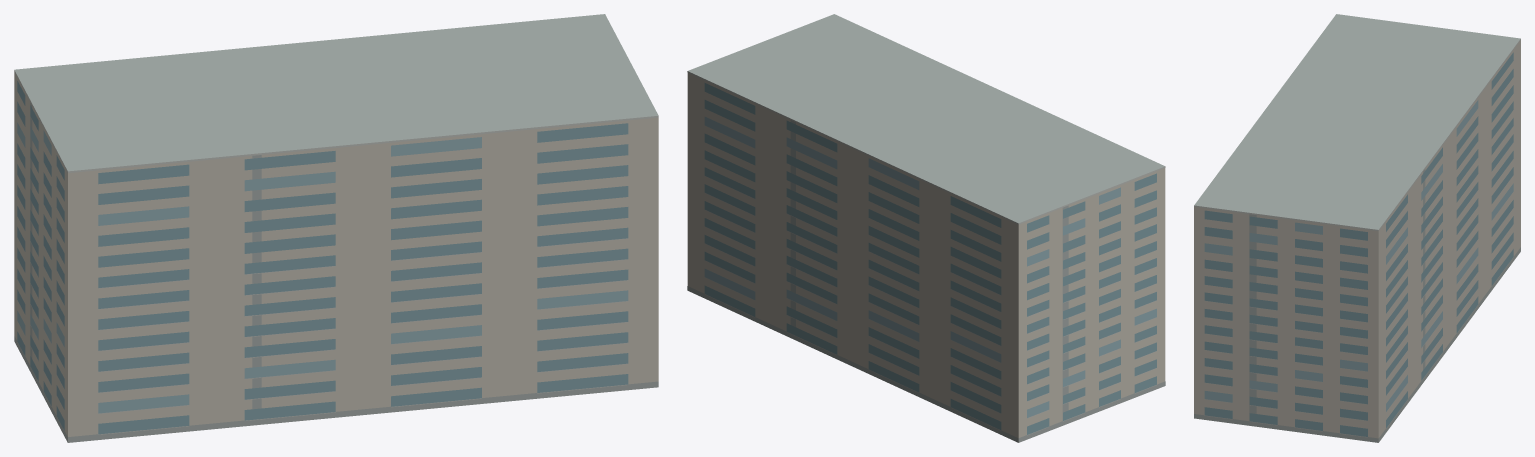
The model's file is residential-0843d3ca-26f6-4914-95ef-cd6d918d3a9d.glb.
The picture shows the model from 3 angles, left to right: view 1: azimuth 30°, elevation 25°; view 2: azimuth 150°, elevation 25°; view 3: azimuth 270°, elevation 25°; orthographic projection. The views are drawn at different scales.
Parts seen in each view (by area): view 1: residential-0843d3ca-26f6-4914-95ef-cd6d918d3a9d.tmp; view 2: residential-0843d3ca-26f6-4914-95ef-cd6d918d3a9d.tmp; view 3: residential-0843d3ca-26f6-4914-95ef-cd6d918d3a9d.tmp.
Part boxes in pixels (left/top/right/bottom): residential-0843d3ca-26f6-4914-95ef-cd6d918d3a9d.tmp: left=14, top=14, right=658, bottom=442; residential-0843d3ca-26f6-4914-95ef-cd6d918d3a9d.tmp: left=687, top=14, right=1165, bottom=442; residential-0843d3ca-26f6-4914-95ef-cd6d918d3a9d.tmp: left=1194, top=14, right=1520, bottom=442.
Size of the model in its own units: 80.45 by 37 by 51.46.
